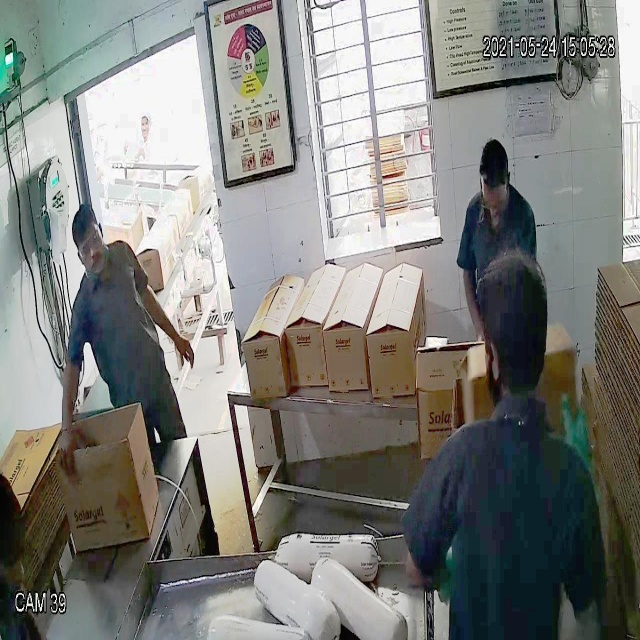Gafas: (69, 224, 105, 262)
